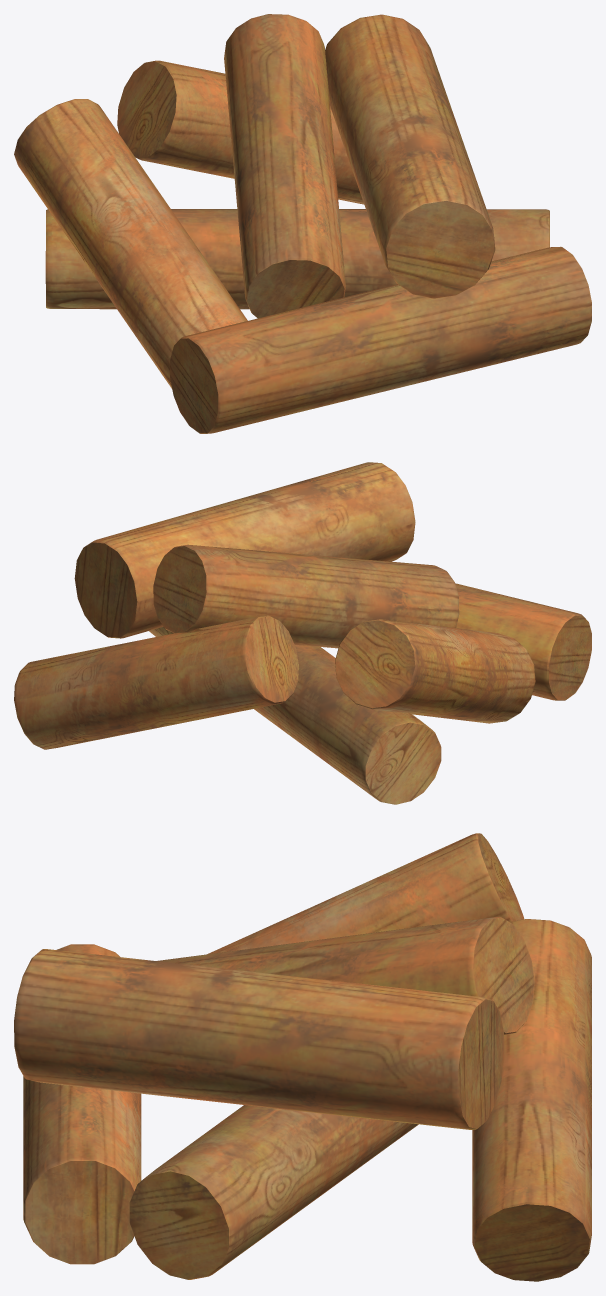
The model's file is ume-wood-optimized.glb.
The picture shows the model from 3 angles, top to bottom: view 1: azimuth 30°, elevation 25°; view 2: azimuth 150°, elevation 25°; view 3: azimuth 270°, elevation 25°; orthographic projection. The views are drawn at different scales.
Parts seen in each view (by area): view 1: Cylinder.003; view 2: Cylinder.003; view 3: Cylinder.003.
Part boxes in pixels (box(x1,y1,x2,y2)): Cylinder.003: box(14, 14, 591, 433); Cylinder.003: box(14, 462, 591, 804); Cylinder.003: box(14, 833, 591, 1281).
Size of the model in its own units: 1.08 by 0.5879 by 1.09.
1 material, 1 textured.
